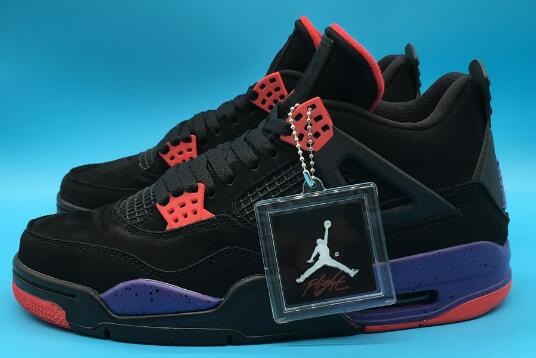Air Jordan 4 Raptors: (10, 22, 509, 350)
